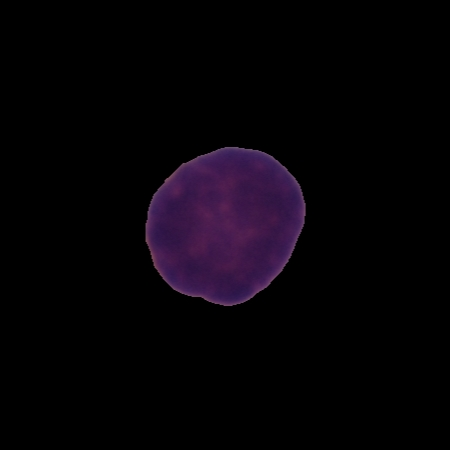HEM: (141, 143, 309, 309)
